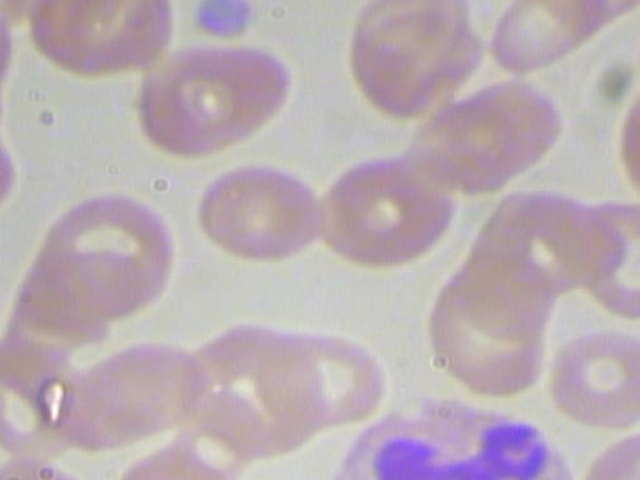Platelets: (191, 0, 254, 47)
RBC: (127, 38, 303, 170), (31, 183, 184, 315), (418, 258, 557, 400), (311, 154, 457, 273), (340, 0, 481, 120), (242, 322, 393, 433), (182, 151, 328, 265), (540, 320, 640, 437), (565, 188, 640, 323), (104, 445, 238, 480), (613, 73, 640, 206), (577, 428, 640, 480), (0, 0, 16, 99)
WBC: (314, 392, 588, 480)
